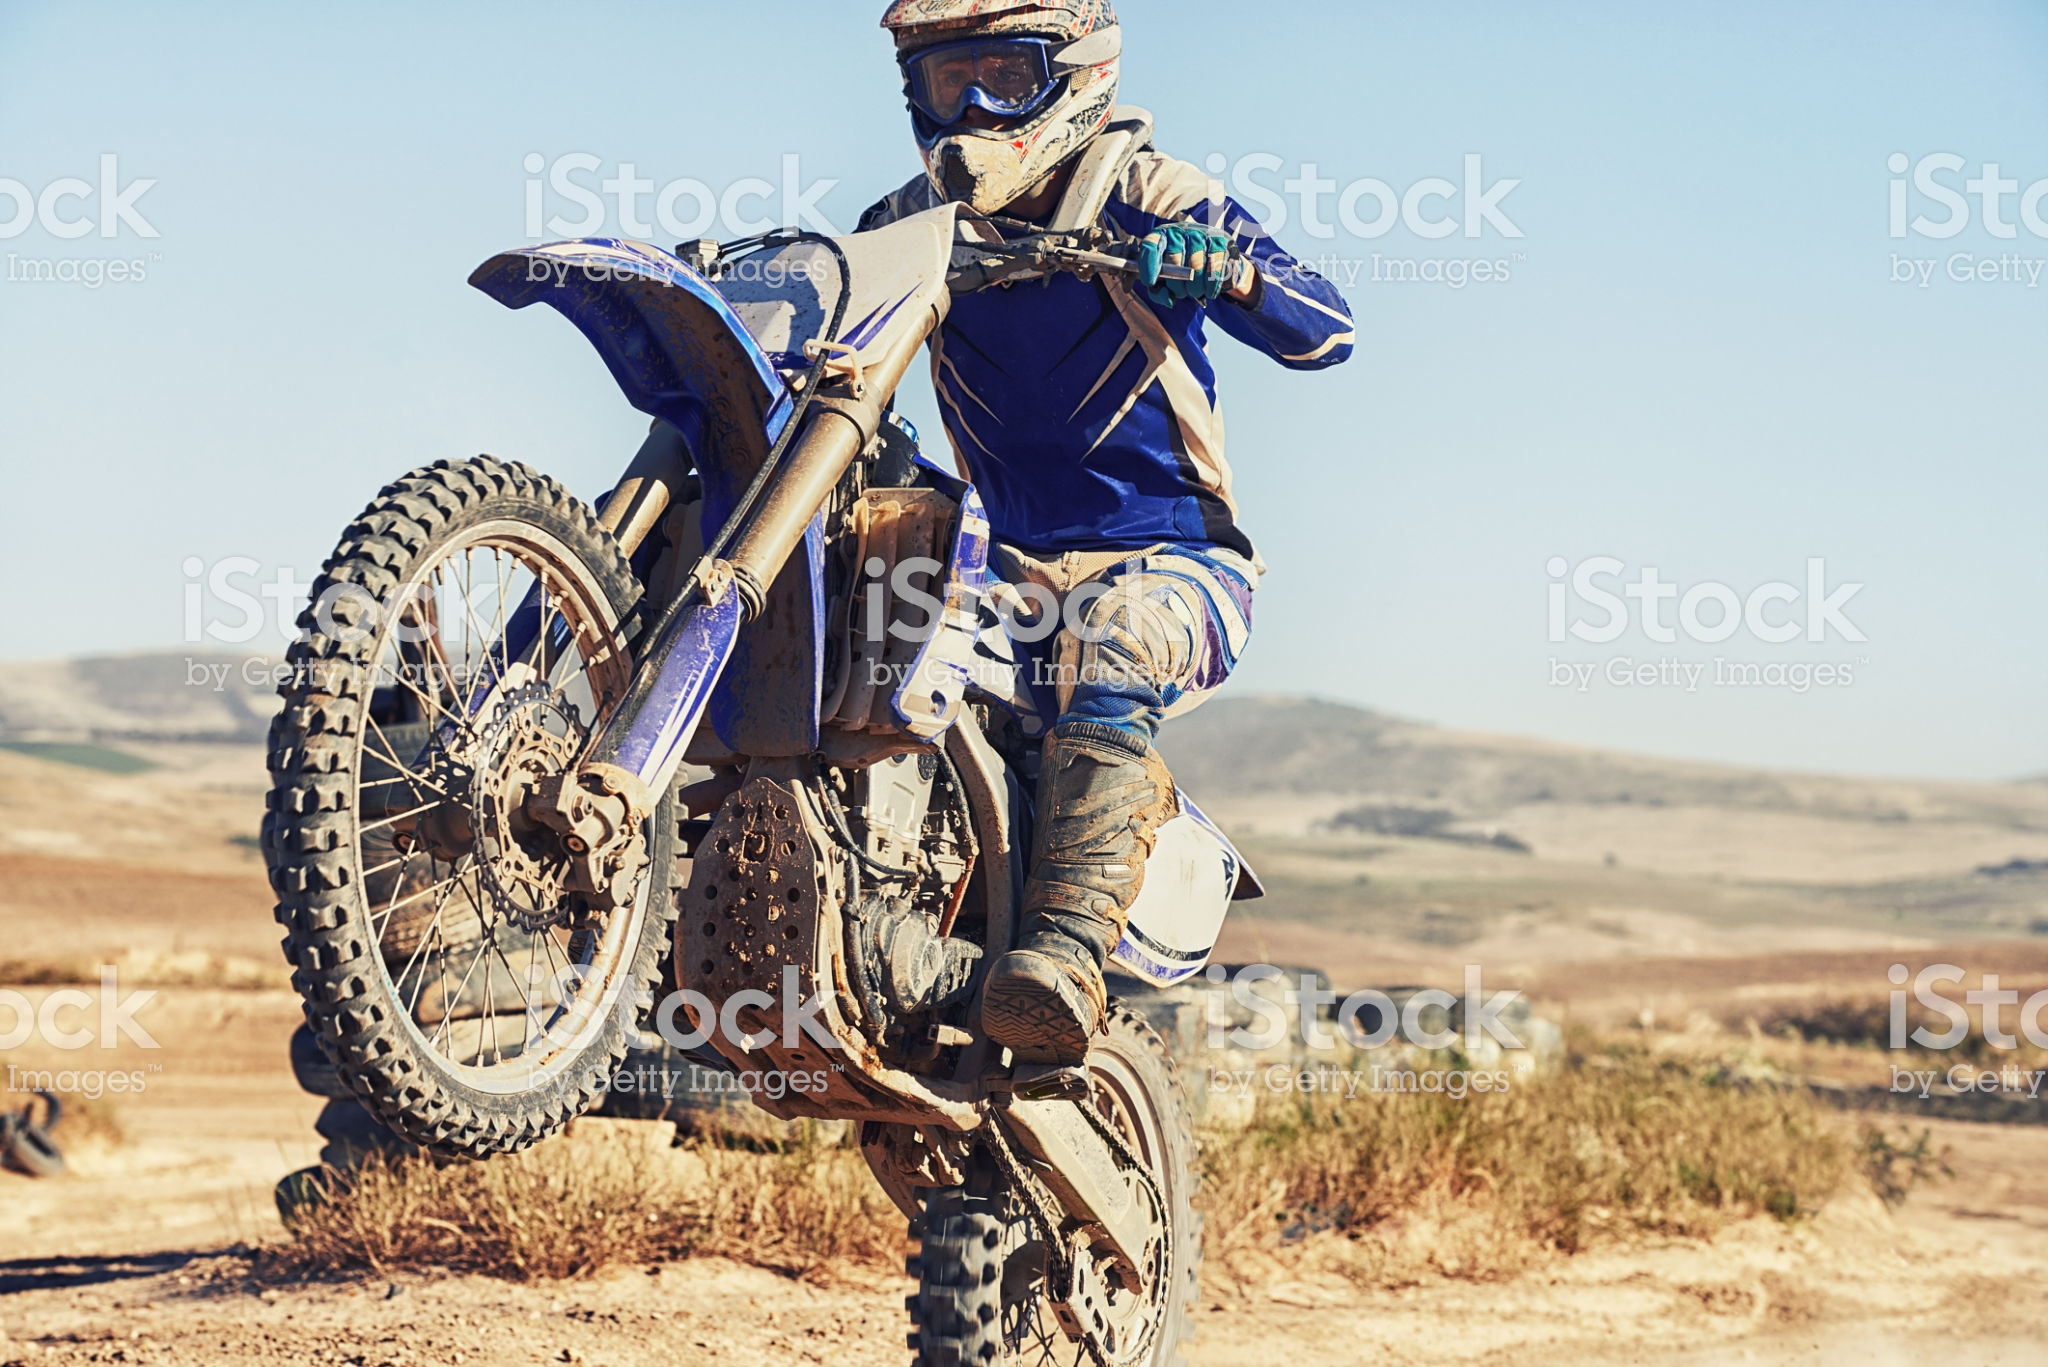helmet: (878, 8, 1144, 194)
